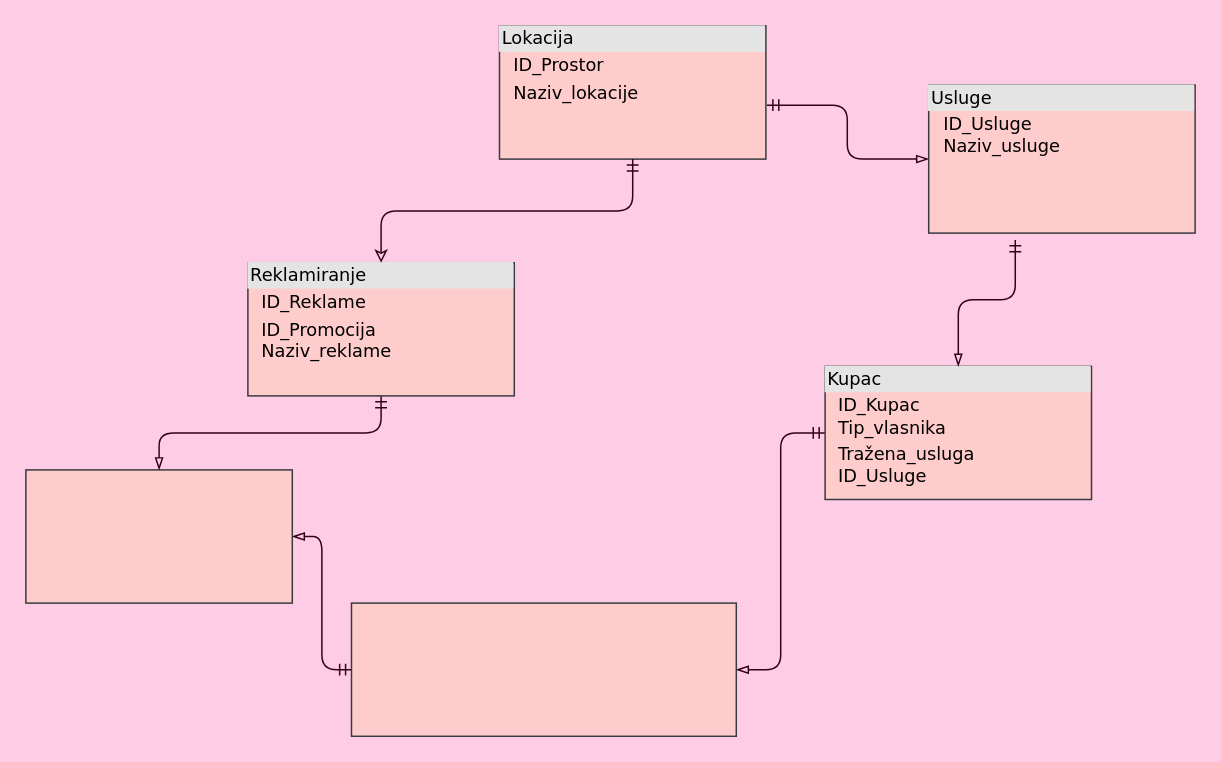
This 1221x762 diagram has some shape labels left out. The shapes that lost their labels are listed below. From the top down, each one's box as (x1, y1, x2, y2) in pixels, then its label:
(24, 468, 292, 603): Ostale usluge ID_Usluge ID_Kupca Tip_usluge
(350, 602, 736, 736): Rezervacija ID_Rezervacije ID_Kupac Termin_rezervacije
